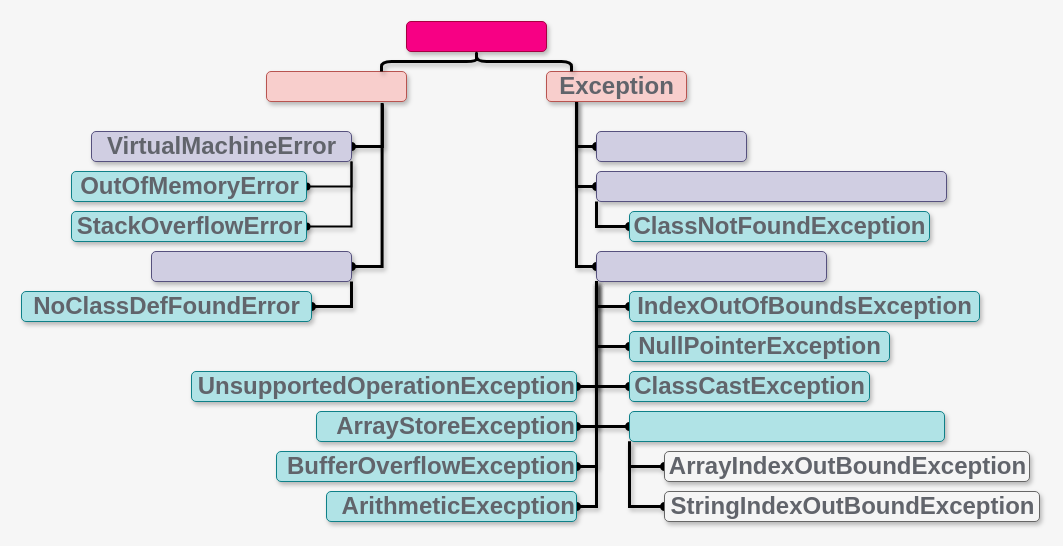
The diagram is 1063 pixels wide and 546 high, and some of its shapes have lost their labels. Each missing label, with the centre of its shape:
Error: the point at 337,87
IndexOutBoundException: the point at 787,427
IOException: the point at 672,147
LinkageError: the point at 252,267
ReflectiveOperationException: the point at 772,187
RuntimeException: the point at 712,267
Throwable: the point at 477,37
